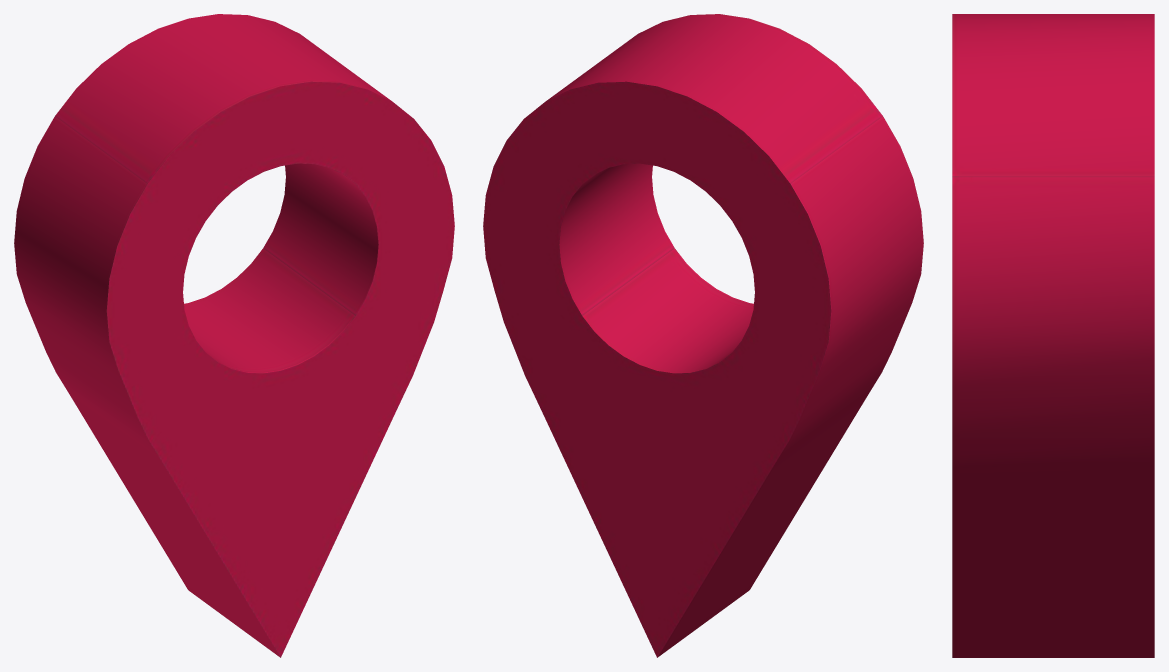
Rendered from waypoint.dae.
3 views of the same model, side by side, from view 1: azimuth 30°, elevation 25°; view 2: azimuth 150°, elevation 25°; view 3: azimuth 270°, elevation 25° (orthographic). The views are drawn at different scales.
Parts seen in each view (by area): view 1: map_pin_11_map; view 2: map_pin_11_map; view 3: map_pin_11_map.
Part boxes in pixels (left/top/right/bottom): map_pin_11_map: left=14, top=14, right=454, bottom=657; map_pin_11_map: left=483, top=14, right=923, bottom=657; map_pin_11_map: left=952, top=14, right=1154, bottom=657.
Size of the model in its own units: 13.76 by 21.58 by 6.34.
Materials: 1 (1 with a texture image).
